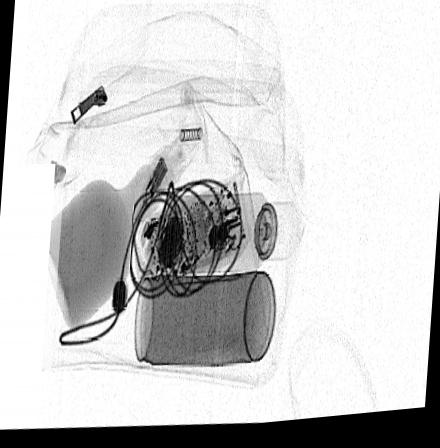Sprayer: (159, 198, 299, 277)
